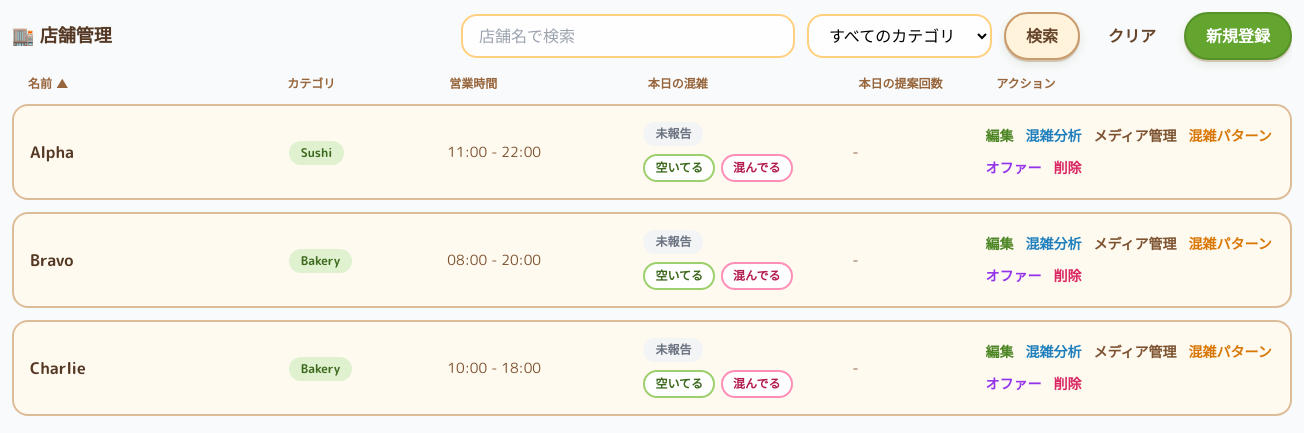
StoreManagementPanel 検索・絞り込み・ソート › 検索ボタンを押すとカテゴリで絞り込まれる
Expected: the text "Charlie" is shown, [30,357,86,379]
Select "Sushi" in the dropdown showing "すべてのカテゴリ". click: (900, 36)
box: [807,14,992,58]
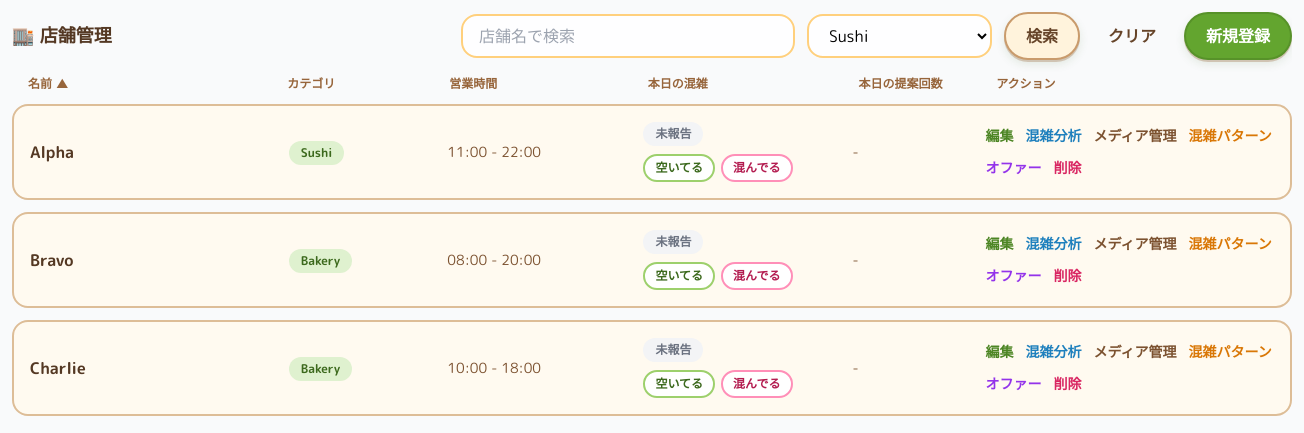
Click the button "検索". click: (1042, 36)
box: [1004,12,1080,60]
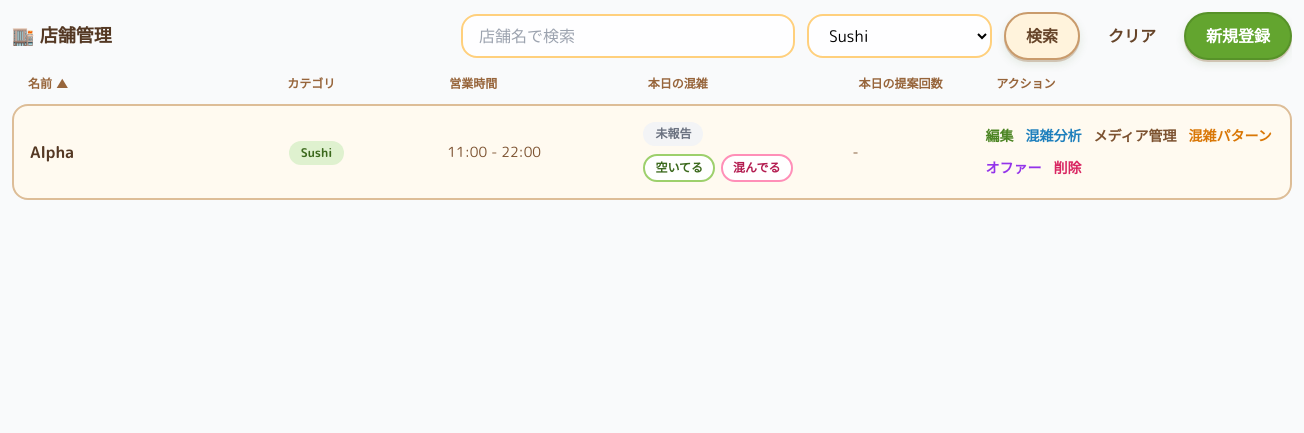
Expected: the text "Alpha" is shown, [30,141,74,163]
Expected: the text "Charlie" is gone
Expected: the text "Bravo" is gone
